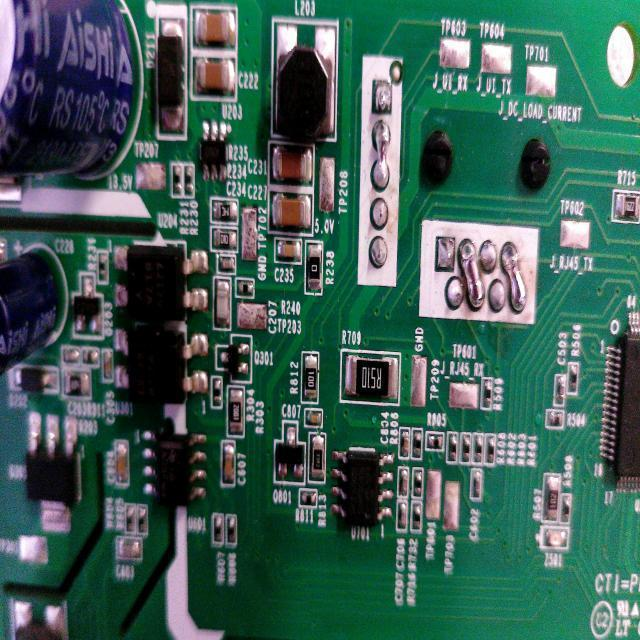Soldering shorted: (456, 229, 488, 318), (500, 229, 530, 319), (371, 116, 391, 190)
